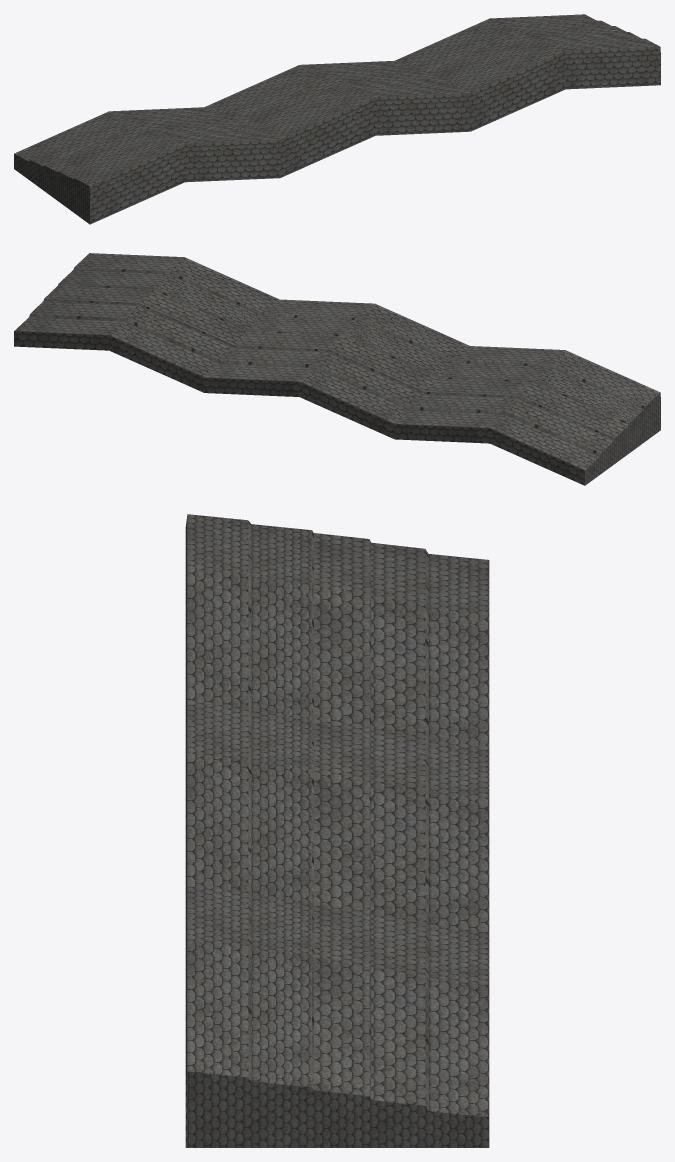
File: RoofTop.fbx
3 renders of one model, top to bottom at view 1: azimuth 30°, elevation 25°; view 2: azimuth 150°, elevation 25°; view 3: azimuth 270°, elevation 25°, orthographic. The views are drawn at different scales.
Visible parts, largest first — view 1: Box012; view 2: Box012; view 3: Box012.
Boxes of the visible parts, x1=… form: Box012: x1=14, y1=14, x2=660, y2=224; Box012: x1=14, y1=253, x2=660, y2=485; Box012: x1=185, y1=514, x2=489, y2=1147.
Size of the model in its own units: 3905 by 375 by 900.
